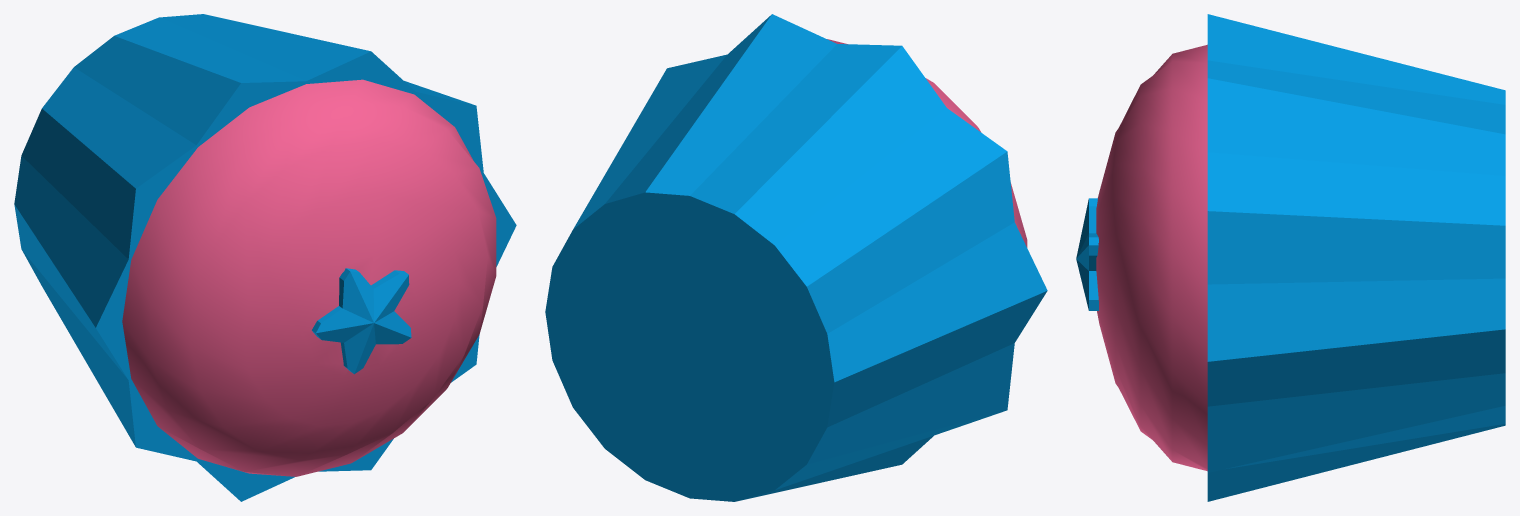
The model's file is cupcake.glb.
3 renders of one model, left to right at view 1: azimuth 30°, elevation 25°; view 2: azimuth 150°, elevation 25°; view 3: azimuth 270°, elevation 25°, orthographic.
Parts seen in each view (by area): view 1: node-0; view 2: node-0; view 3: node-0.
Part boxes in pixels (x1,y1,x2,y2): node-0: [14, 14, 516, 501]; node-0: [545, 14, 1047, 501]; node-0: [1076, 14, 1505, 501].
Bounding box in the file's own units: 121 × 115 × 105.
